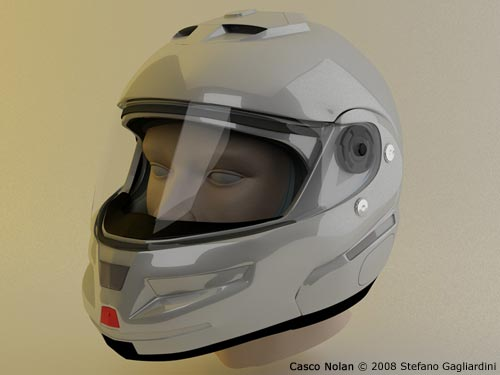helmet: (115, 31, 411, 328)
